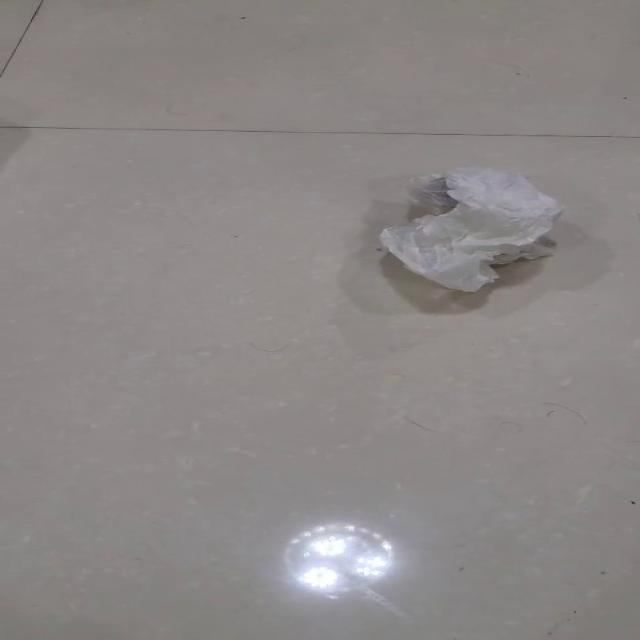plastic: (378, 165, 564, 293)
